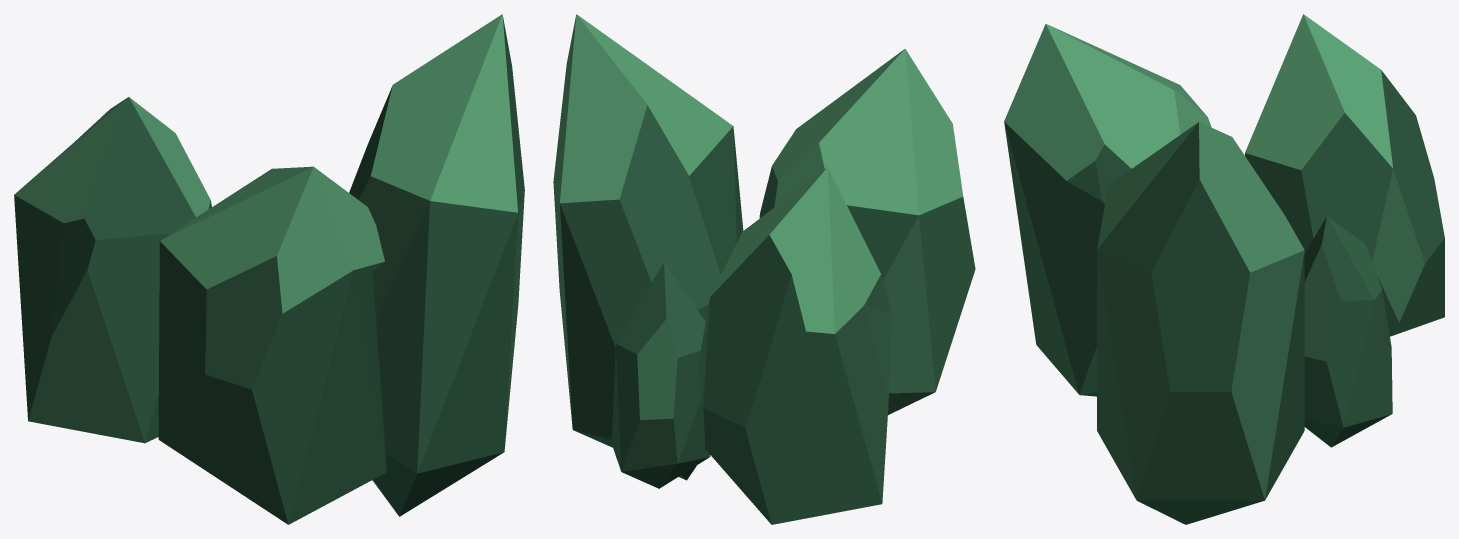
Rendered from MalachiteRock3.glb.
3 views of the same model, side by side, from view 1: azimuth 30°, elevation 25°; view 2: azimuth 150°, elevation 25°; view 3: azimuth 270°, elevation 25° (orthographic). The views are drawn at different scales.
Parts seen in each view (by area): view 1: MalachiteRock3; view 2: MalachiteRock3; view 3: MalachiteRock3.
Part boxes in pixels (left/top/right/bottom): MalachiteRock3: left=14, top=14, right=524, bottom=524; MalachiteRock3: left=553, top=14, right=975, bottom=524; MalachiteRock3: left=1004, top=14, right=1444, bottom=524.
Size of the model in its own units: 0.8627 by 0.95 by 0.8343.
